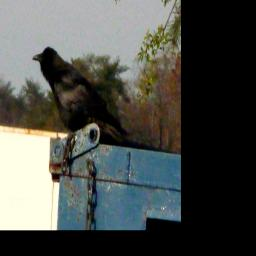Crow: (31, 45, 127, 143)
